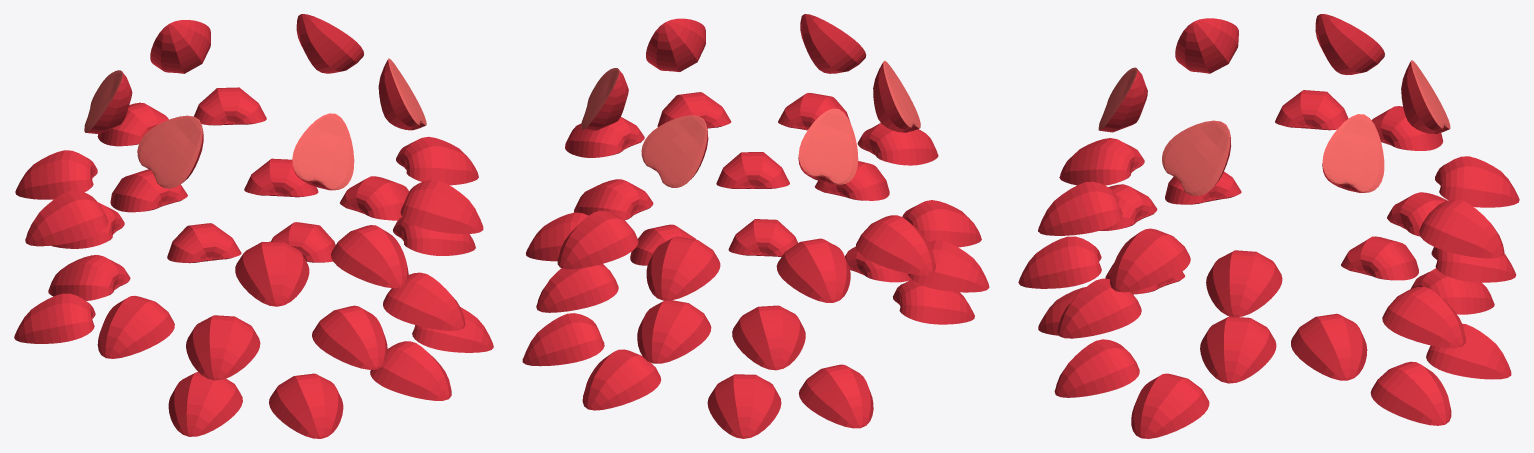
The model's file is PanCake_StrawBerry.fbx.
3 renders of one model, left to right at view 1: azimuth 30°, elevation 25°; view 2: azimuth 150°, elevation 25°; view 3: azimuth 270°, elevation 25°, orthographic. The views are drawn at different scales.
Visible parts, largest first — view 1: StrawBerry_middle.016, StrawBerry_middle, StrawBerry_middle.007, StrawBerry_top; view 2: StrawBerry_middle, StrawBerry_middle.016, StrawBerry_middle.007, StrawBerry_top; view 3: StrawBerry_middle.016, StrawBerry_middle, StrawBerry_middle.007, StrawBerry_top.
Part boxes in pixels (box(x1,y1,x2,y2)): StrawBerry_middle.016: box(15, 87, 483, 306); StrawBerry_middle: box(51, 158, 475, 380); StrawBerry_middle.007: box(14, 222, 493, 438); StrawBerry_top: box(84, 14, 426, 190); StrawBerry_middle: box(526, 152, 989, 370); StrawBerry_middle.016: box(557, 92, 938, 302); StrawBerry_middle.007: box(522, 219, 974, 438); StrawBerry_top: box(581, 14, 920, 187); StrawBerry_middle.016: box(1038, 90, 1519, 317); StrawBerry_middle: box(1018, 171, 1516, 383); StrawBerry_middle.007: box(1038, 236, 1511, 438); StrawBerry_top: box(1098, 14, 1450, 195).
Bounding box in the file's own units: 0.8453 × 0.5454 × 0.8728.
